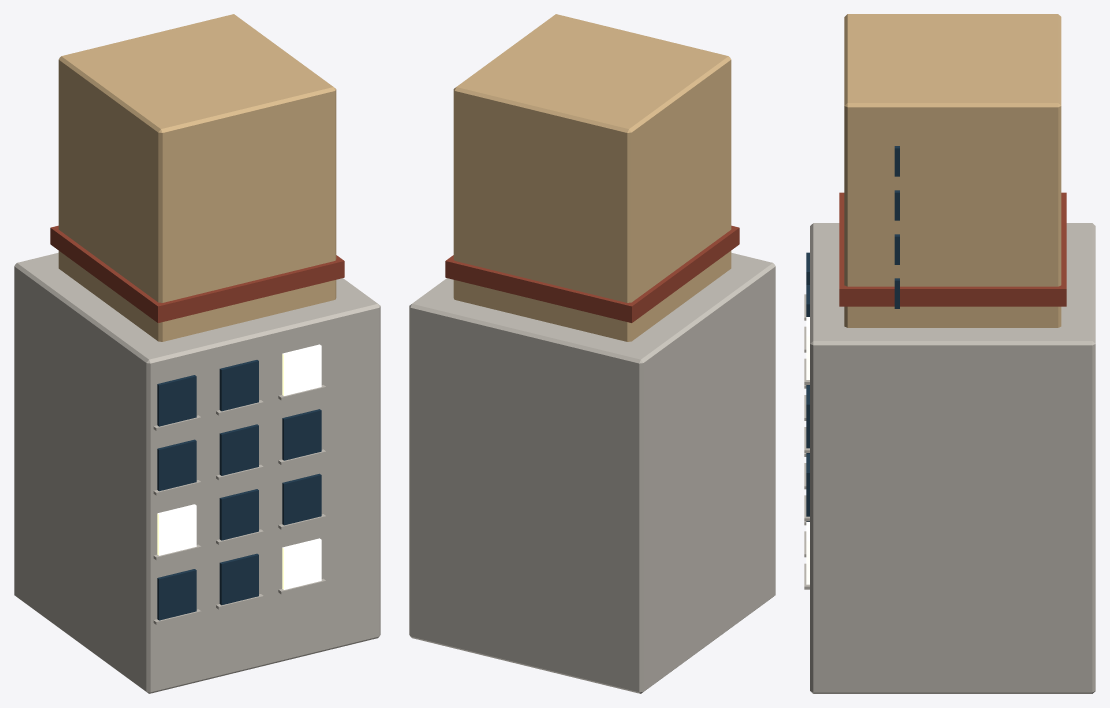
File: hd_bldg_tower.gltf
The picture shows the model from 3 angles, left to right: view 1: azimuth 30°, elevation 25°; view 2: azimuth 150°, elevation 25°; view 3: azimuth 270°, elevation 25°; orthographic projection. The views are drawn at different scales.
Parts seen in each view (by area): view 1: low, high, cap, win1_2, win2_1, win3_0, win0_1, win1_0, win2_0, win2_2, win0_0, win0_2 (+3 smaller); view 2: low, high, cap; view 3: low, high, cap.
Part boxes in pixels (x1,y1,x2,y2): low: (14, 252, 380, 693); high: (58, 14, 336, 341); cap: (50, 225, 344, 322); win1_2: (282, 473, 321, 525); win2_1: (219, 424, 258, 475); win3_0: (157, 375, 196, 426); win0_1: (219, 553, 258, 605); win1_0: (157, 504, 196, 555); win2_0: (157, 439, 196, 491); win2_2: (282, 409, 321, 460); win0_0: (157, 569, 196, 620); win0_2: (282, 538, 321, 589); low: (409, 252, 775, 693); high: (453, 14, 731, 341); cap: (445, 225, 739, 322); low: (810, 223, 1095, 693); high: (844, 14, 1061, 327); cap: (839, 192, 1066, 306).
Bounding box in the file's own units: 4.4 × 9.8 × 4.49.
